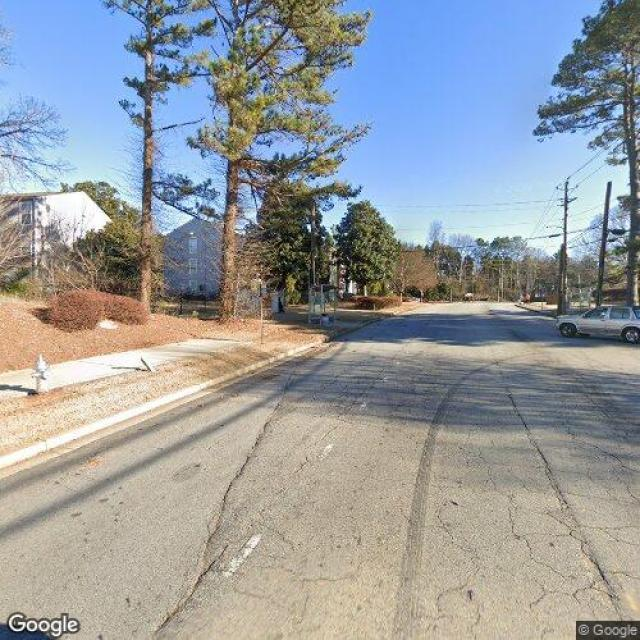shelter: (307, 284, 338, 326)
trash_can: (320, 314, 330, 326)
